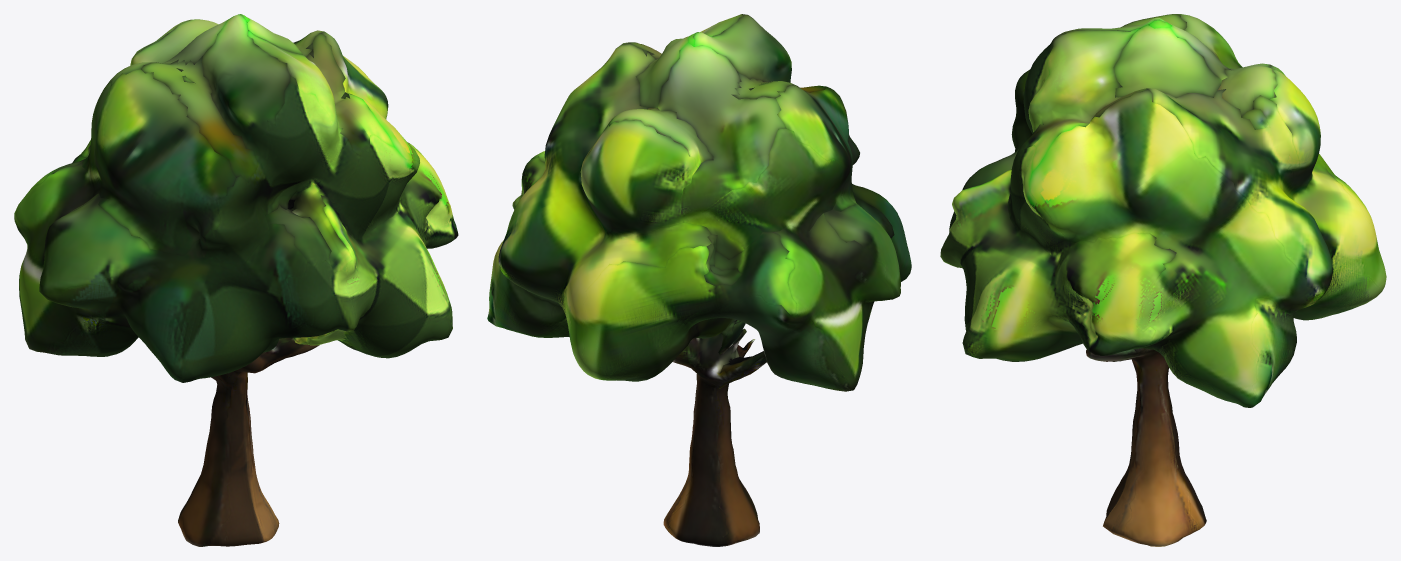
3 renders of one model, left to right at view 1: azimuth 30°, elevation 25°; view 2: azimuth 150°, elevation 25°; view 3: azimuth 270°, elevation 25°, orthographic. The views are drawn at different scales.
Visible parts, largest first — view 1: model.obj; view 2: model.obj; view 3: model.obj.
Boxes of the visible parts, x1,y1,x2,y2 form: model.obj: [14, 14, 458, 546]; model.obj: [487, 14, 911, 546]; model.obj: [940, 14, 1386, 546].
Bounding box in the file's own units: 0.8691 × 1.07 × 0.8401.
1 material, 1 textured.
